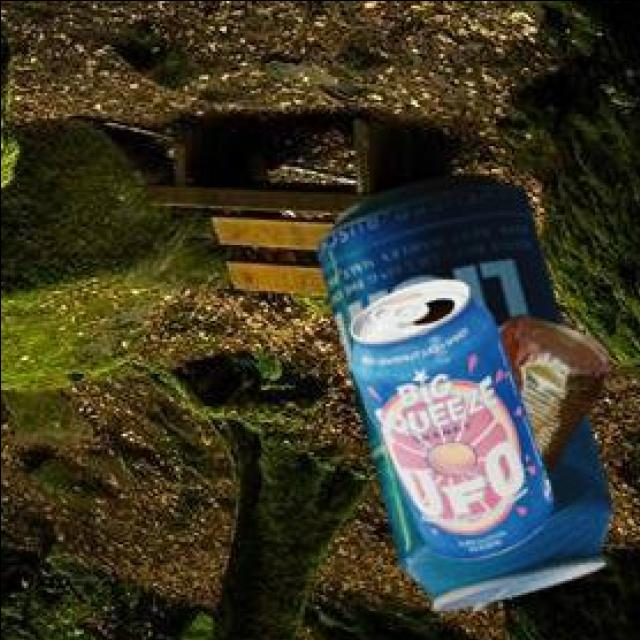logam: (321, 176, 614, 614), (353, 282, 556, 563), (503, 319, 611, 473)
